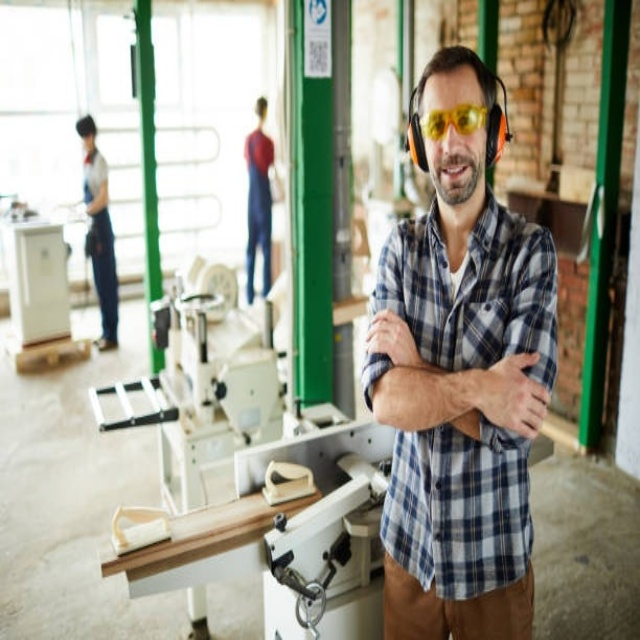Gafas: (420, 103, 492, 140)
Sin_guantes: (480, 350, 550, 439), (363, 308, 419, 370)
Sin_mascara: (435, 152, 471, 196)
